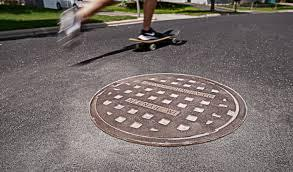closed manhole-not overflowing-: (90, 69, 246, 157)
